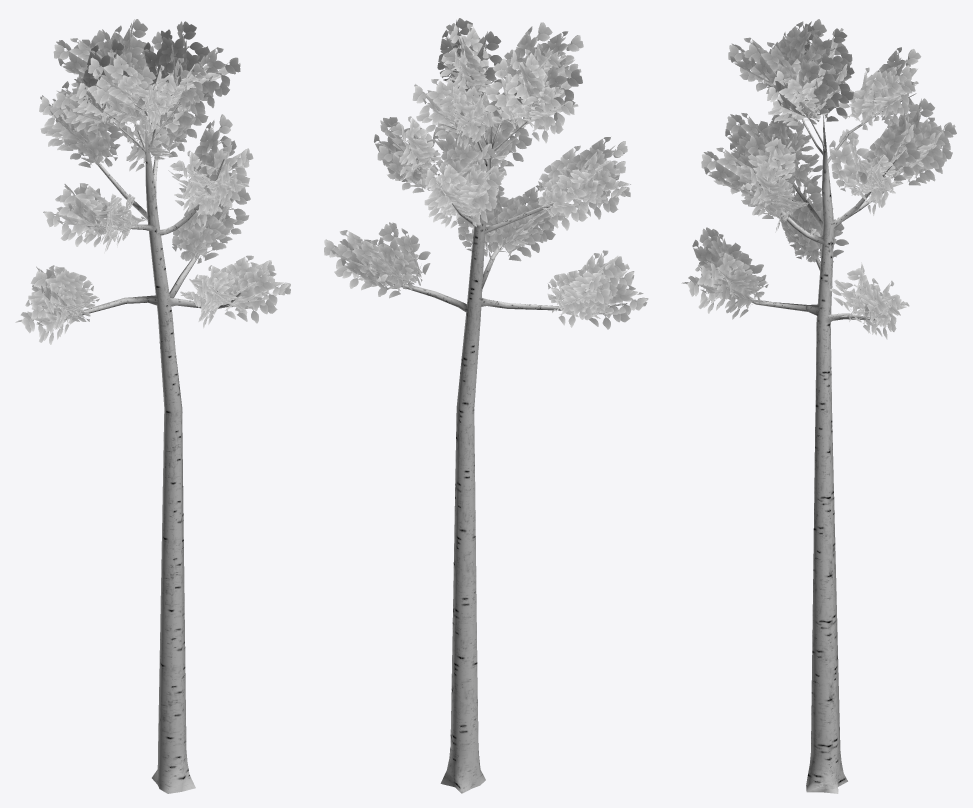
File: Tree_01.fbx
3 renders of one model, left to right at view 1: azimuth 30°, elevation 25°; view 2: azimuth 150°, elevation 25°; view 3: azimuth 270°, elevation 25°, orthographic. The views are drawn at different scales.
Parts seen in each view (by area): view 1: Tree_01_LOD0; view 2: Tree_01_LOD0; view 3: Tree_01_LOD0.
Part boxes in pixels (x1,y1,x2,y2): Tree_01_LOD0: [15, 19, 290, 793]; Tree_01_LOD0: [324, 18, 648, 793]; Tree_01_LOD0: [681, 19, 956, 793].
Size of what is drawn, in the model's own units: 1353 by 3547 by 1207.
